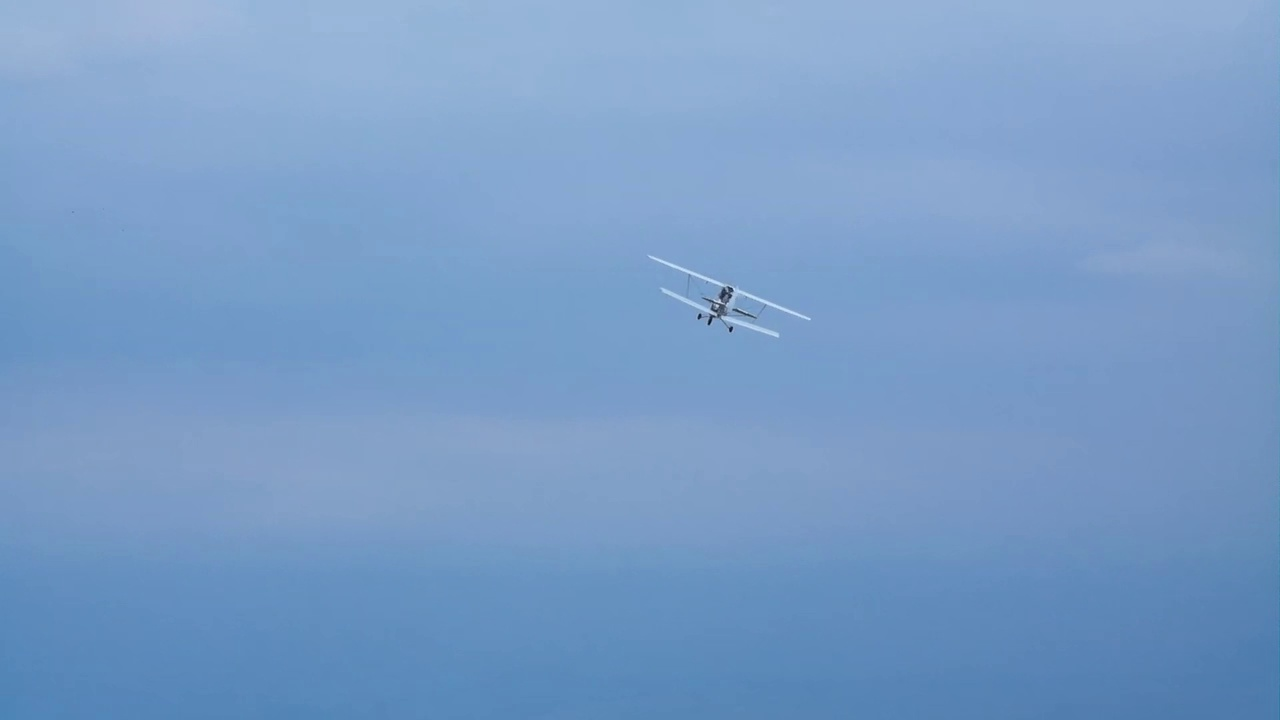plane: (648, 251, 811, 340)
